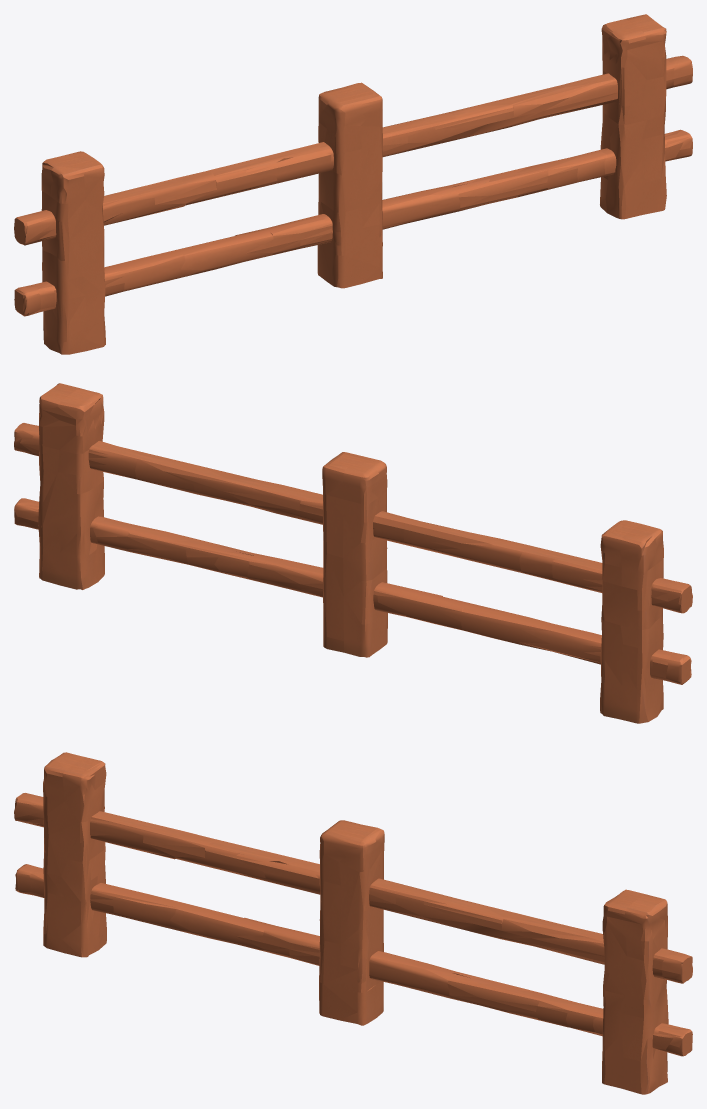
Rendered from fence_rail_2.glb.
The picture shows the model from 3 angles, top to bottom: view 1: azimuth 30°, elevation 25°; view 2: azimuth 150°, elevation 25°; view 3: azimuth 330°, elevation 25°; orthographic projection.
Visible parts, largest first — view 1: output_unwrapped; view 2: output_unwrapped; view 3: output_unwrapped.
Boxes of the visible parts, <box> form: output_unwrapped: <box>14,14,692,354</box>; output_unwrapped: <box>14,383,692,723</box>; output_unwrapped: <box>14,752,692,1094</box>.
Size of the model in its own units: 1 by 0.2617 by 0.0636.
1 material, 1 textured.
